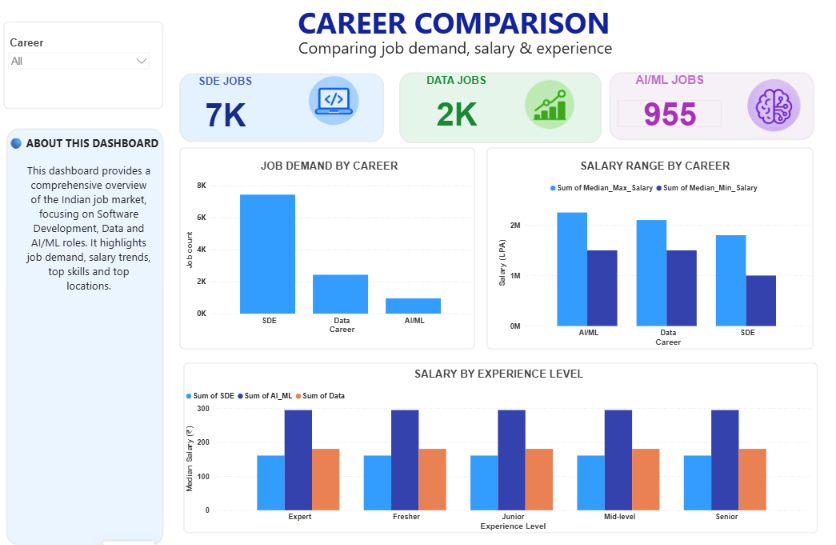

The page's visual inventory and layout, read from the dashboard file:
{"tool":"powerbi","page":{"name":"Page 2","canvas":[1700,1100],"ordinal":1},"visuals":[{"type":"textbox","box":[600,0,642.5,100],"z":0},{"type":"textbox","box":[568,70,705,52.5],"z":1000},{"type":"cardVisual","title":"SDE JOBS","fields":{"Data":["Sum(Career Summary.Job_Count)"]},"box":[337.5,152.5,244,122],"z":2000},{"type":"image","box":[622.5,150,111.7,106.7],"z":3000},{"type":"shape","box":[387.5,370,390,142],"z":4000},{"type":"image","box":[1047.5,147.5,123.3,128.3],"z":5000},{"type":"cardVisual","title":"AI/ML JOBS","fields":{"Data":["Sum(Career Summary.Job_Count)"]},"box":[1227.5,147.5,242.5,125],"z":6000},{"type":"image","box":[1497.5,147.5,120,128.3],"z":7000},{"type":"shape","box":[22.5,257.5,315,835],"z":8000},{"type":"textbox","box":[22.5,267.5,350,55],"z":9000},{"type":"textbox","box":[55,322.5,262.5,600],"z":10000},{"type":"slicer","fields":{"Values":["Career Summary.Career"]},"box":[16,70,302,104],"z":11000},{"type":"shape","box":[16,44,320,176],"z":12000},{"type":"cardVisual","title":"DATA JOBS","fields":{"Data":["Sum(Career Summary.Job_Count)"]},"box":[800,150,245,122.5],"z":13000},{"type":"shape","box":[807.5,145,405,142.5],"z":14000},{"type":"shape","box":[1228,146,410,136],"z":15000},{"type":"clusteredColumnChart","title":"JOB DEMAND BY CAREER","fields":{"Category":["Career Summary.Career"],"Y":["Sum(Career Summary.Job_Count)"]},"box":[375,322.5,585,352.5],"z":16000},{"type":"shape","box":[367.5,295,592.5,405],"z":17000},{"type":"clusteredColumnChart","title":"SALARY RANGE BY CAREER","fields":{"Category":["Career Summary.Career"],"Y":["Sum(Career Summary.Median_Max_Salary)","Sum(Career Summary.Median_Min_Salary)"]},"box":[1002.5,322.5,635,377.5],"z":18000},{"type":"shape","box":[982.5,295,655,405],"z":19000},{"type":"lineClusteredColumnComboChart","title":"SALARY BY EXPERIENCE LEVEL","fields":{"Category":["Experience Salary.Experience_Level"],"Y":["Sum(SDE Top 10.SDE)","Sum(AI ML Top 10.AI_ML)","Sum(Data Top 10.Data)"]},"box":[375,737.5,1262.5,330],"z":20000},{"type":"shape","box":[375,725,1270,342.5],"z":21000},{"type":"shape","box":[368,148,410,138],"z":22000}]}

Visuals, with their boxes in screenshot pixels (x1, y1, x2, y2), scaled from the page's 1700x1100 canvas onto the 836x545 screenshot:
textbox: locate(295, 0, 611, 50)
textbox: locate(279, 35, 626, 61)
"SDE JOBS" cardVisual: locate(166, 76, 286, 136)
image: locate(306, 74, 361, 127)
shape: locate(191, 183, 382, 254)
image: locate(515, 73, 576, 137)
"AI/ML JOBS" cardVisual: locate(604, 73, 723, 135)
image: locate(736, 73, 795, 137)
shape: locate(11, 128, 166, 541)
textbox: locate(11, 133, 183, 160)
textbox: locate(27, 160, 156, 457)
slicer - Career Summary.Career: locate(8, 35, 156, 86)
shape: locate(8, 22, 165, 109)
"DATA JOBS" cardVisual: locate(393, 74, 514, 135)
shape: locate(397, 72, 596, 142)
shape: locate(604, 72, 806, 140)
"JOB DEMAND BY CAREER" clusteredColumnChart: locate(184, 160, 472, 334)
shape: locate(181, 146, 472, 347)
"SALARY RANGE BY CAREER" clusteredColumnChart: locate(493, 160, 805, 347)
shape: locate(483, 146, 805, 347)
"SALARY BY EXPERIENCE LEVEL" lineClusteredColumnComboChart: locate(184, 365, 805, 529)
shape: locate(184, 359, 809, 529)
shape: locate(181, 73, 383, 142)
